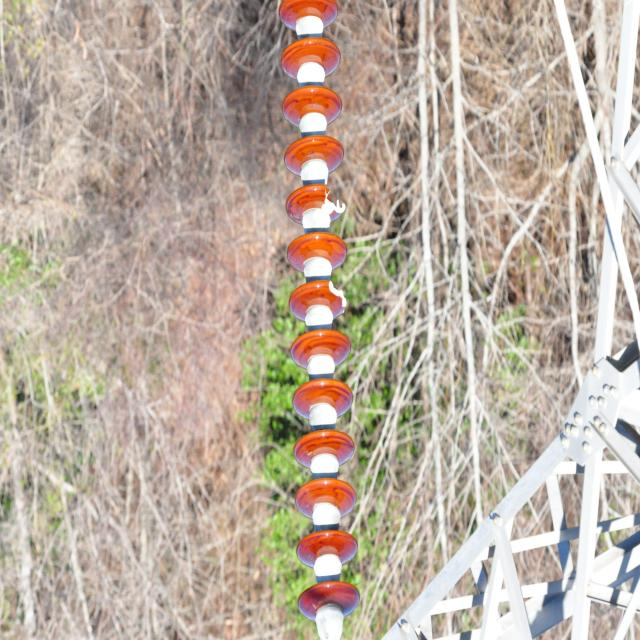broken: (320, 183, 347, 217), (325, 274, 346, 317)
insulator: (278, 0, 362, 617)
